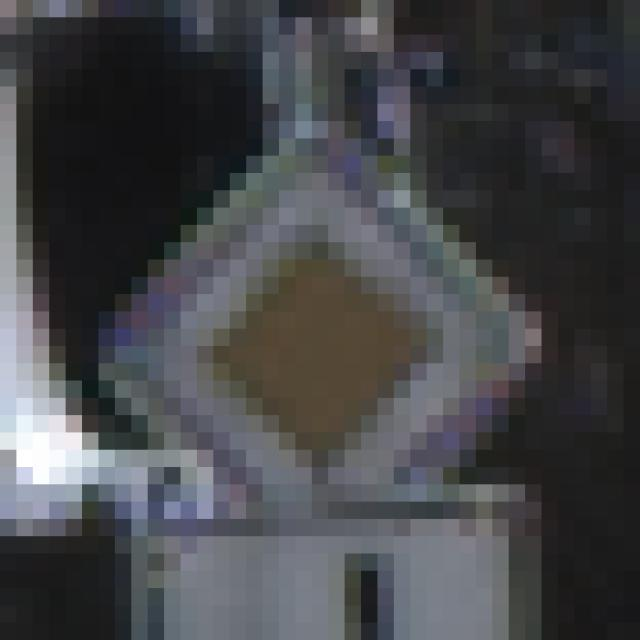Main Road: (83, 105, 543, 554)
